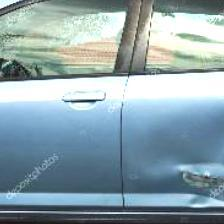door_dent: (188, 78, 224, 210)
